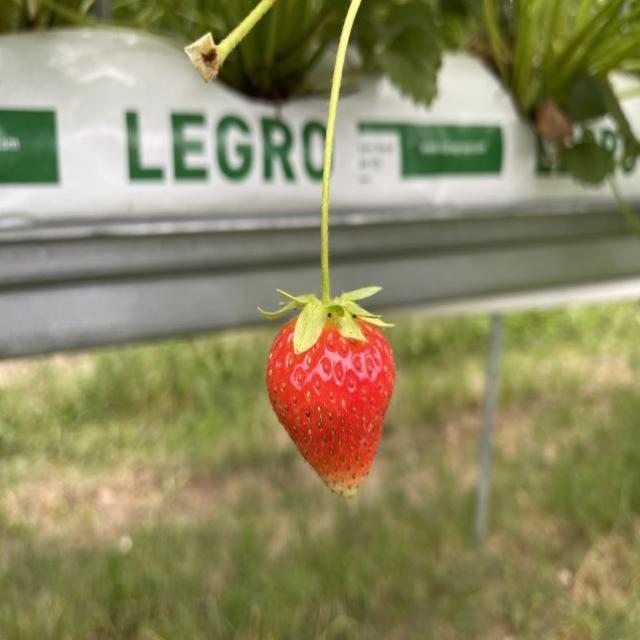stem: (260, 0, 390, 354)
strawberryR: (268, 320, 395, 496)
